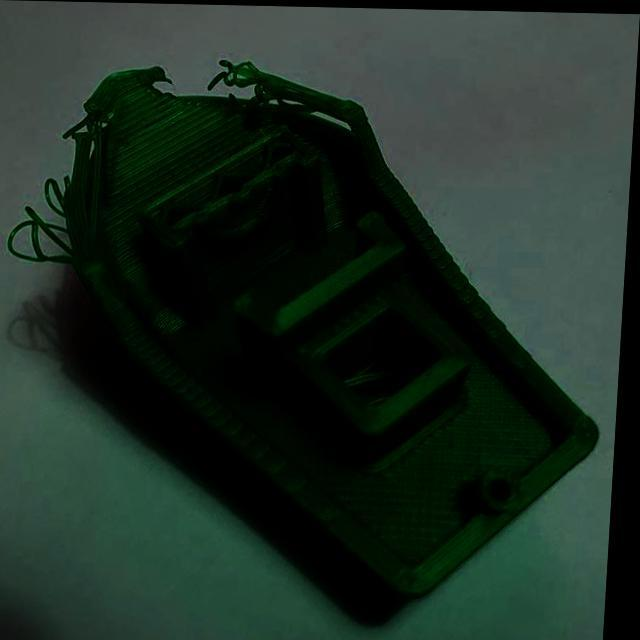spaghetti: (5, 171, 92, 268), (200, 53, 297, 122)
